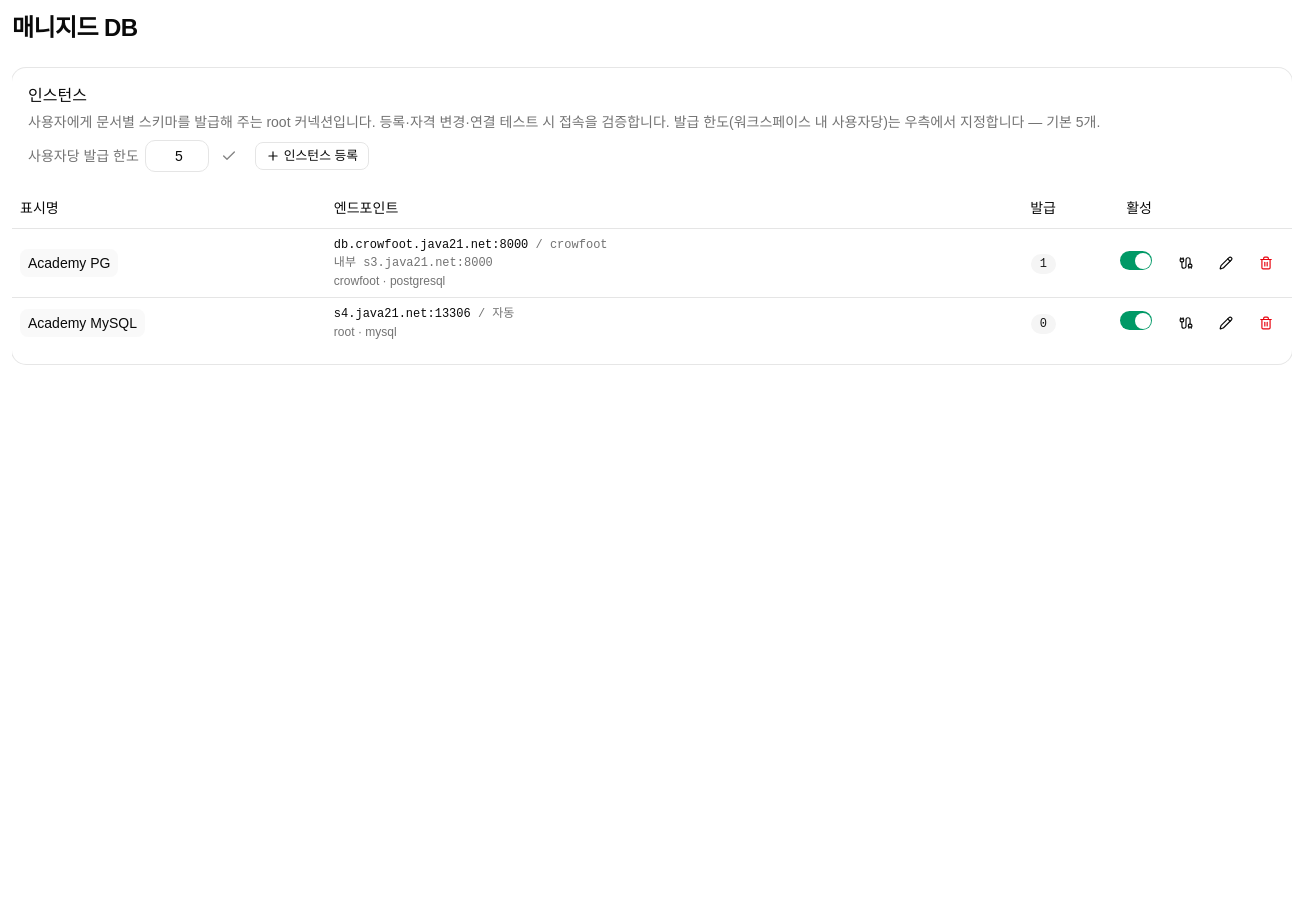
Test: 매니지드 인스턴스 관리 화면 › 발급 한도 — 지정값(기본 5)이 폼에 뜨고 바꾸면 PATCH된다
The image size is (1292, 912).
Replace the text in the number field named "사용자당 발급 한도" with "3" at (177, 156), box [145,140,209,172]
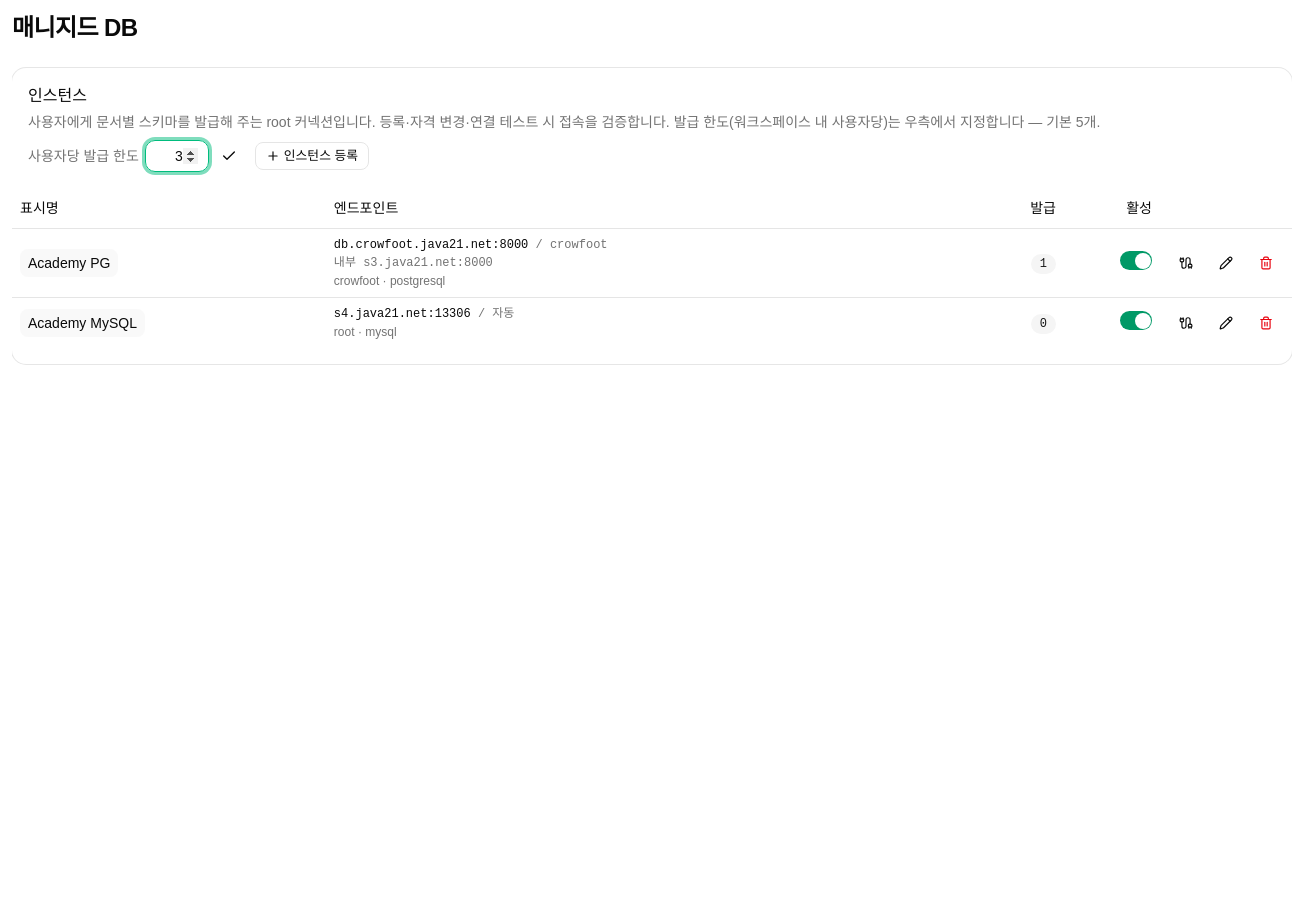
Click the button named "저장" at (229, 156), box [215,142,243,170]
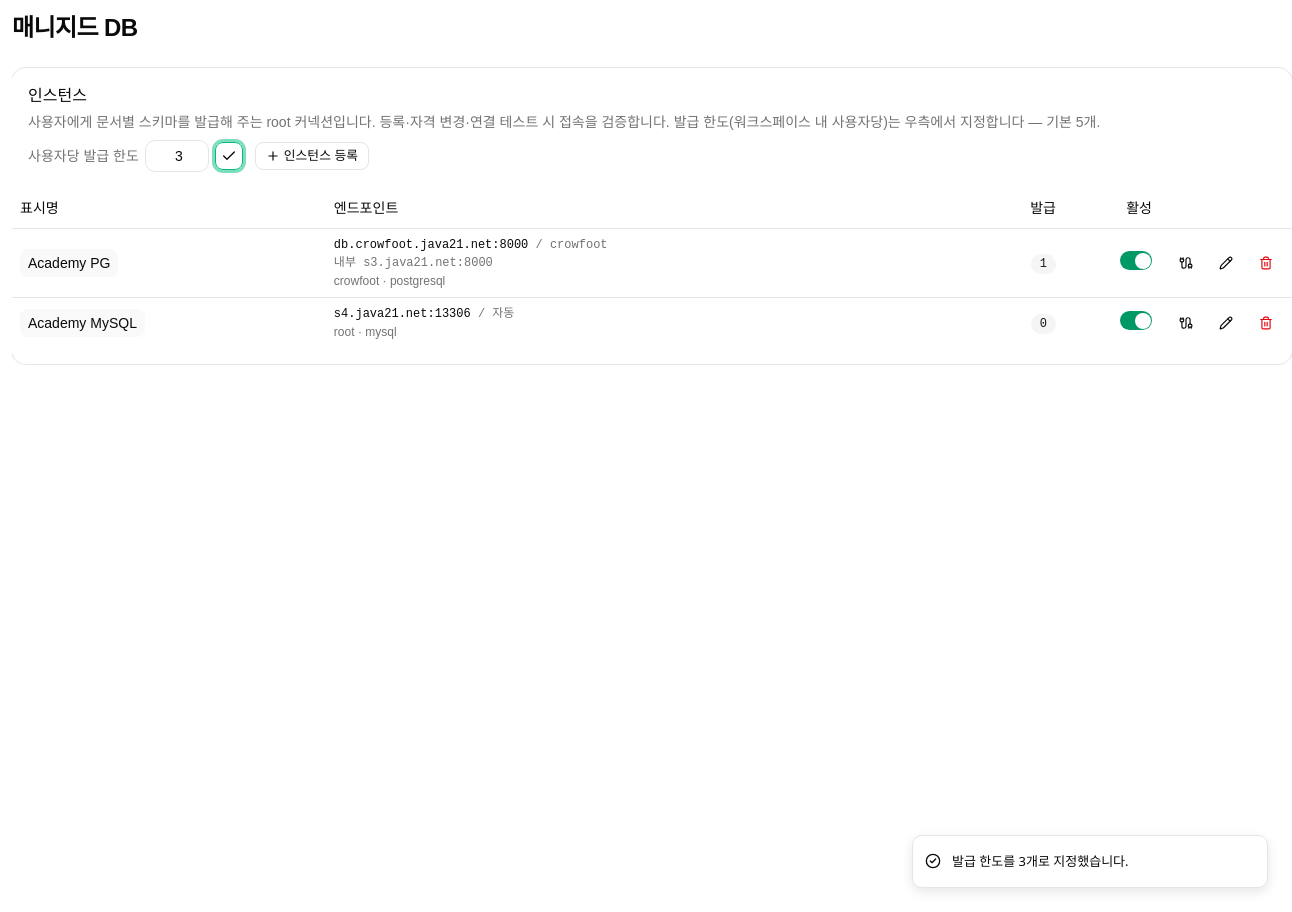
Now the text "발급 한도를 3개로 지정했습니다." is shown, box [952,852,1128,871]
